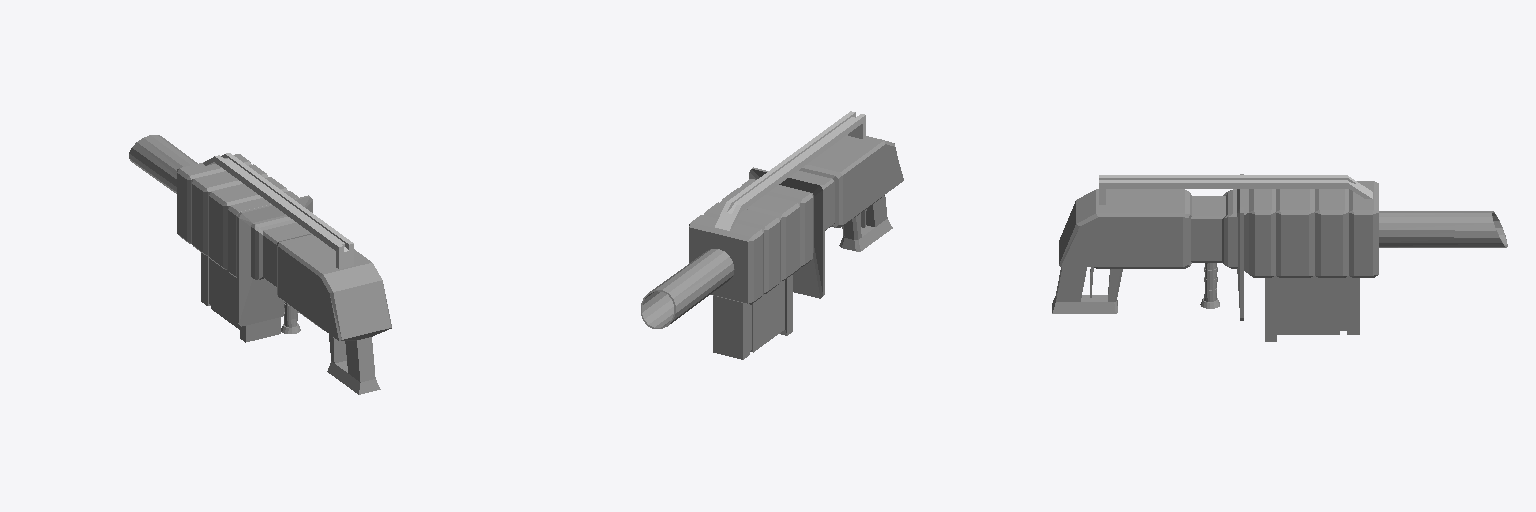
Rendered from gun_rocketrifle.obj.
The picture shows the model from 3 angles: view 1: azimuth 30°, elevation 25°; view 2: azimuth 150°, elevation 25°; view 3: azimuth 270°, elevation 25°; orthographic projection.
Visible parts, largest first — view 1: Cube_Cube.001; view 2: Cube_Cube.001; view 3: Cube_Cube.001.
Boxes of the visible parts, x1=… form: Cube_Cube.001: x1=129, y1=135, x2=391, y2=394; Cube_Cube.001: x1=641, y1=111, x2=903, y2=359; Cube_Cube.001: x1=1052, y1=174, x2=1507, y2=341.
Size of the model in its own units: 0.0994 by 0.1968 by 0.5287.